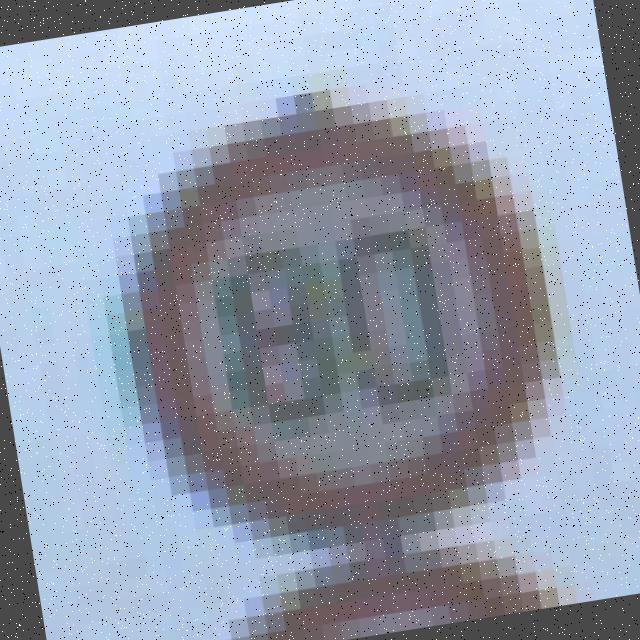Ograniczenie predkosci do 80: (128, 97, 562, 558)
